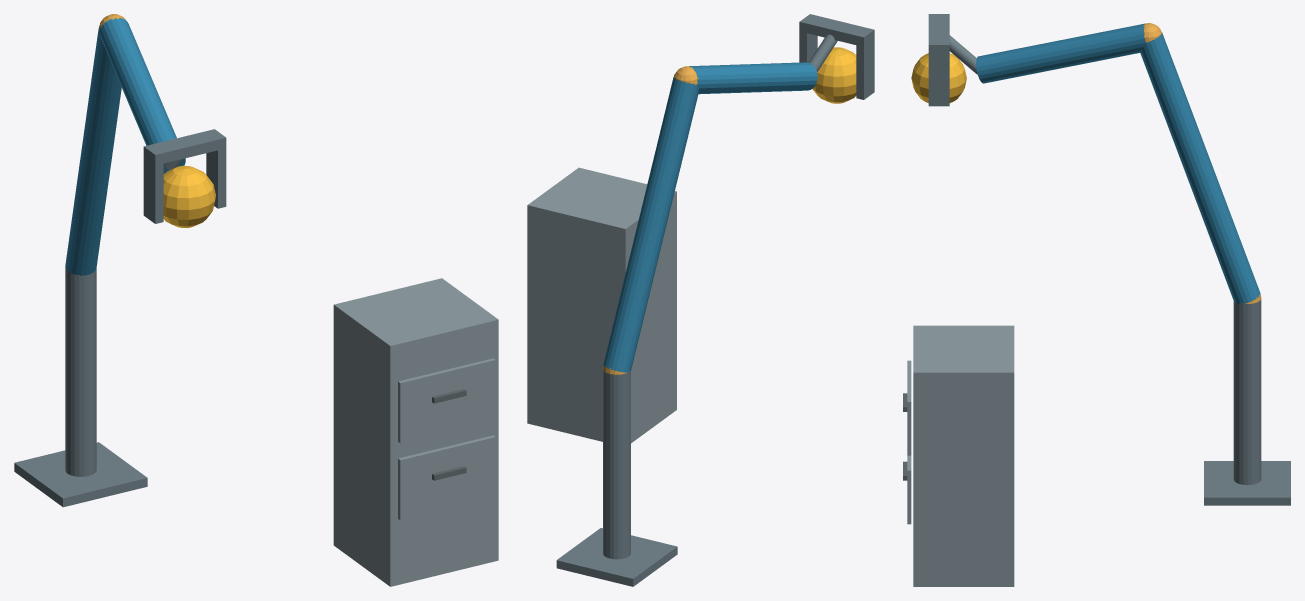
3 renders of one model, left to right at view 1: azimuth 30°, elevation 25°; view 2: azimuth 150°, elevation 25°; view 3: azimuth 270°, elevation 25°, orthographic. The views are drawn at different scales.
Visible parts, largest first — view 1: cabinet_1 body, moving link 1, fixed post, cabinet_1 drawer front.001, cabinet_1 drawer front, pedestal, moving link 2, ball ball_1, gripper bridge, gripper finger -1, gripper finger 1; view 2: cabinet_1 body, moving link 1, fixed post, pedestal, moving link 2, ball ball_1, gripper bridge, gripper finger -1, gripper finger 1, gripper wrist connector; view 3: cabinet_1 body, moving link 1, fixed post, moving link 2, pedestal, ball ball_1, gripper finger 1, gripper bridge.
Boxes of the visible parts, x1,y1,x2,y2 form: cabinet_1 body: (333, 278, 498, 586); moving link 1: (65, 25, 121, 275); fixed post: (65, 266, 96, 476); cabinet_1 drawer front.001: (398, 358, 495, 443); cabinet_1 drawer front: (398, 435, 495, 520); pedestal: (14, 442, 147, 507); moving link 2: (99, 18, 185, 173); ball ball_1: (163, 165, 215, 227); gripper bridge: (143, 129, 226, 165); gripper finger -1: (143, 157, 163, 223); gripper finger 1: (206, 148, 226, 208); cabinet_1 body: (527, 167, 676, 443); moving link 1: (603, 77, 698, 372); fixed post: (603, 369, 630, 559); pedestal: (556, 528, 677, 586); moving link 2: (689, 62, 817, 94); ball ball_1: (812, 47, 856, 103); gripper bridge: (799, 14, 874, 46); gripper finger -1: (856, 39, 874, 99); gripper finger 1: (799, 31, 817, 62); gripper wrist connector: (808, 34, 837, 71); cabinet_1 body: (913, 325, 1014, 586); moving link 1: (1140, 32, 1260, 304); fixed post: (1233, 299, 1261, 485); moving link 2: (976, 23, 1145, 83); pedestal: (1204, 461, 1290, 505); ball ball_1: (911, 53, 966, 103); gripper finger 1: (928, 54, 949, 106); gripper bridge: (928, 14, 949, 54).
Size of the model in its own units: 0.9891 by 1.44 by 1.12.
